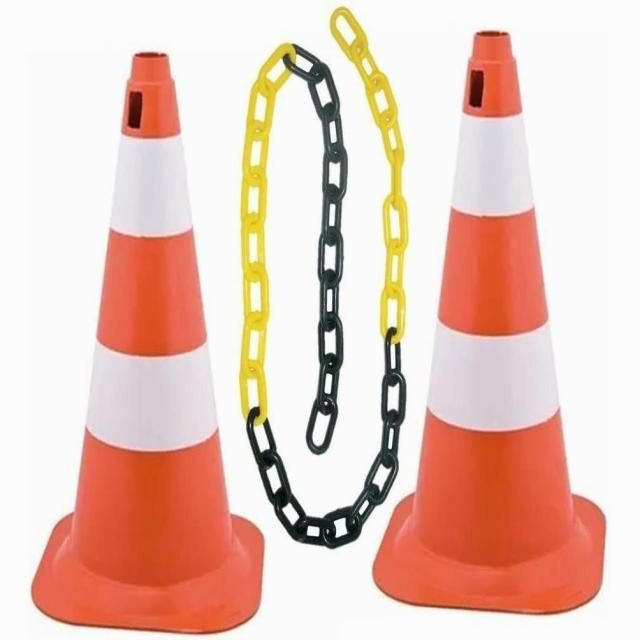traffic cone: (371, 30, 607, 618), (30, 50, 265, 636)
